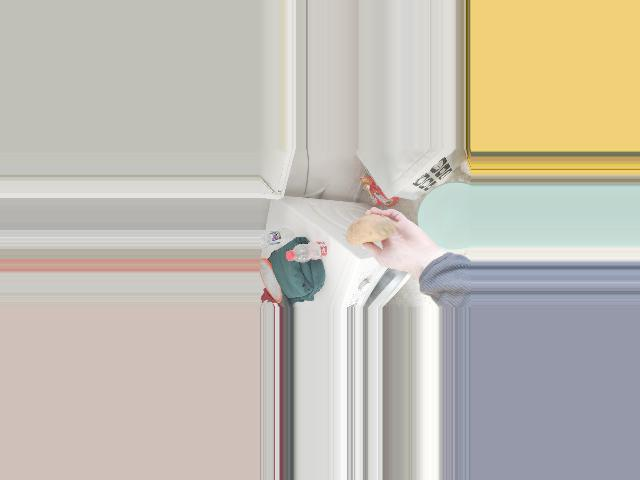sweet_potato: (344, 216, 401, 241)
